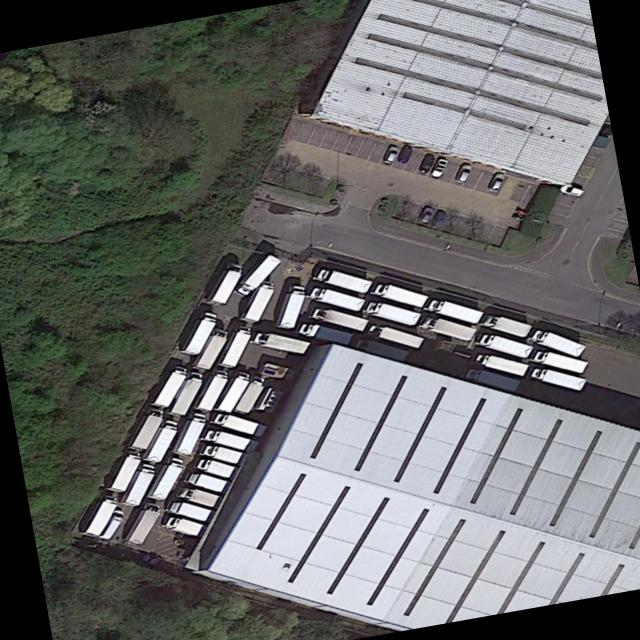large-vehicle: (230, 250, 281, 298), (209, 368, 254, 414), (175, 309, 219, 356), (143, 454, 186, 502), (525, 325, 587, 358), (122, 405, 165, 452), (120, 500, 163, 547), (203, 258, 246, 305), (145, 363, 188, 409), (189, 367, 231, 413), (139, 417, 181, 463), (77, 493, 119, 539), (116, 460, 157, 507), (188, 326, 230, 371), (168, 409, 208, 456), (101, 449, 143, 493), (164, 370, 203, 417), (422, 295, 483, 324), (310, 265, 371, 294), (236, 279, 276, 323), (214, 323, 253, 368), (460, 365, 520, 394), (527, 346, 588, 374), (472, 330, 533, 358), (361, 298, 422, 326), (307, 304, 368, 332), (416, 313, 476, 341), (369, 280, 428, 308), (306, 284, 365, 312), (247, 328, 310, 354), (229, 372, 267, 415), (364, 322, 424, 349), (294, 319, 354, 346), (273, 282, 306, 329), (471, 351, 528, 378), (527, 365, 586, 391), (179, 468, 232, 495), (477, 312, 532, 338), (208, 410, 260, 437), (198, 425, 252, 451), (163, 498, 216, 524), (173, 483, 224, 510), (351, 337, 407, 361), (196, 441, 247, 467), (157, 513, 208, 539), (190, 454, 239, 480), (95, 507, 124, 541)
small-vehicle: (485, 171, 506, 193), (427, 156, 447, 177), (452, 162, 471, 184), (415, 153, 434, 174), (380, 144, 399, 163), (395, 144, 413, 163), (558, 183, 583, 196), (428, 209, 446, 227), (416, 206, 434, 222)
